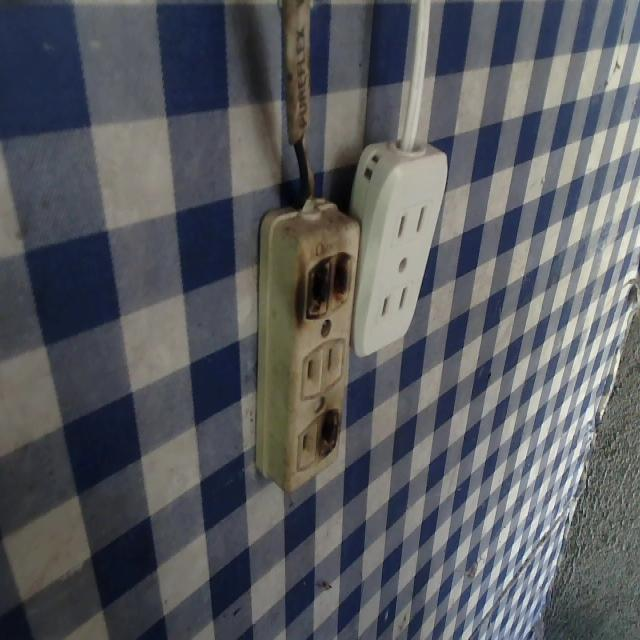-: (299, 248, 353, 315), (316, 405, 339, 455)
